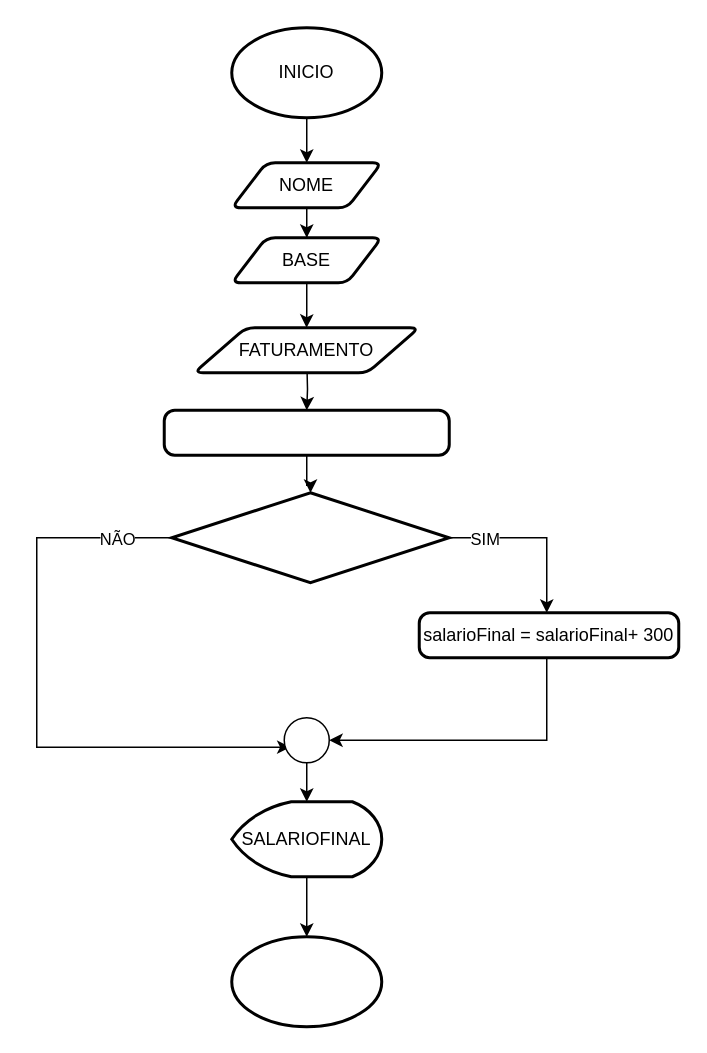
Image size: 707x1053. Some labels were removed from this diagram. The centre of each missing label's shape, as x and y in pixels:
"FATURAMENTO > 5000" goes at (310,537).
"FIM" goes at (306,981).
"salarioFinal = base" goes at (306,432).
